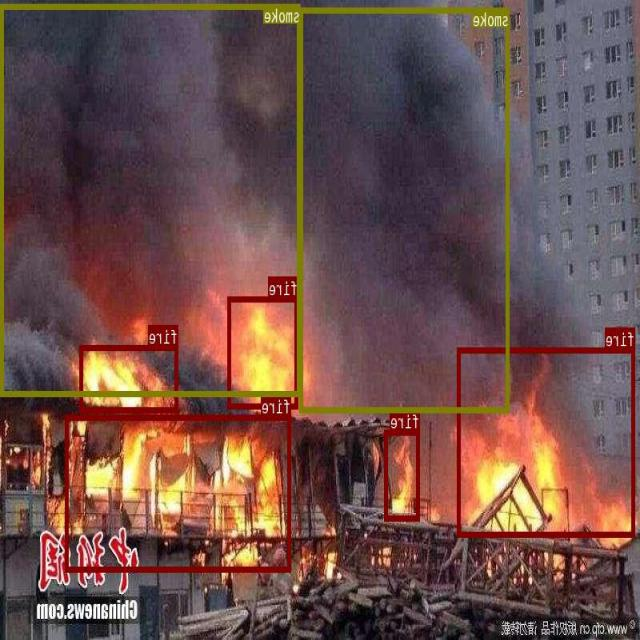fire: (66, 414, 292, 570), (458, 347, 636, 536), (228, 296, 298, 408), (80, 344, 179, 412), (385, 429, 421, 519)
smoke: (2, 3, 302, 395), (300, 7, 510, 412)
